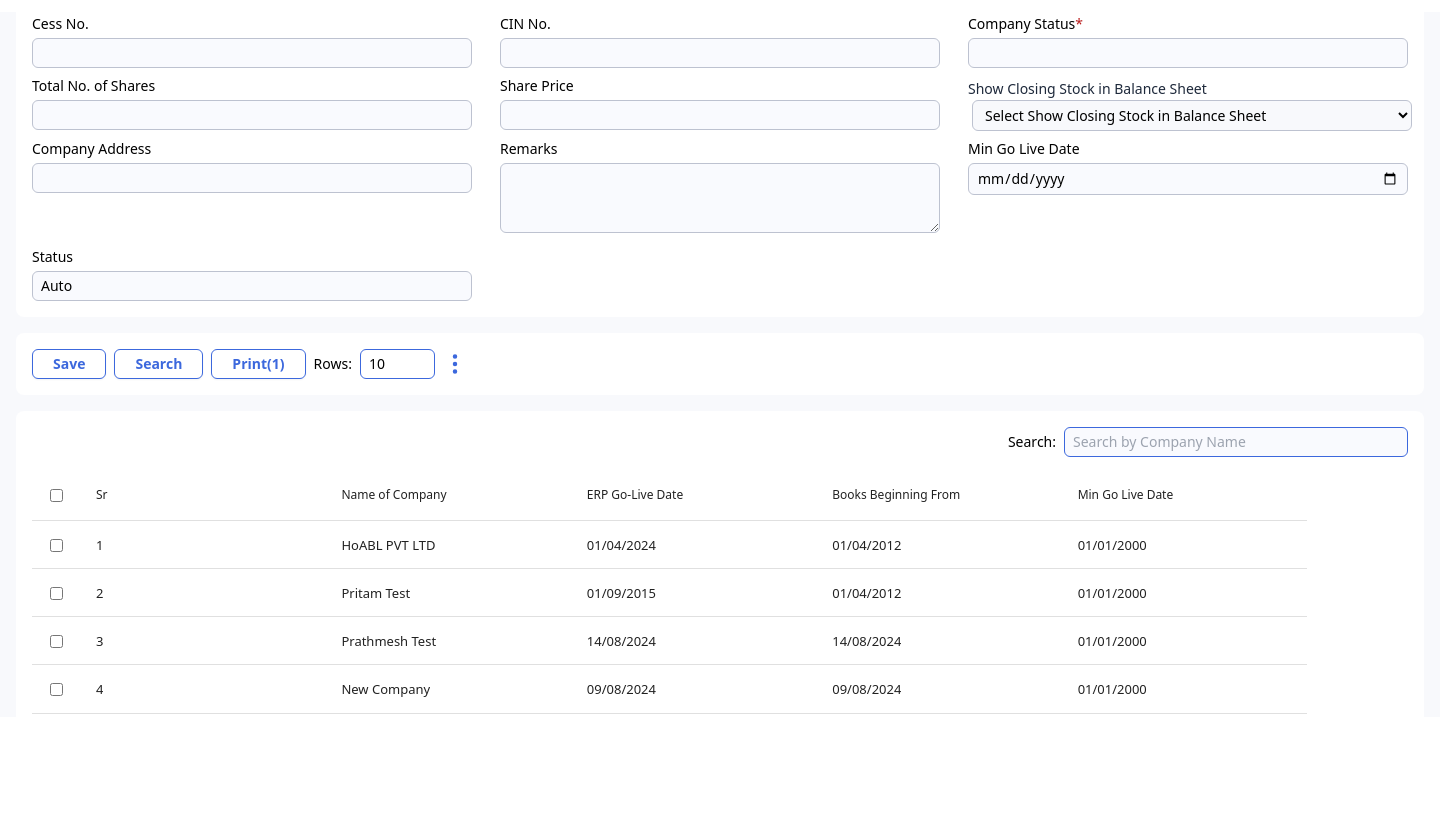
Test: DynamicForm Component › shows validation error message on form submission when required field is empty
The image size is (1440, 822).
(page scrolled)
Click the button "Save": (69, 364) [32, 349, 106, 379]
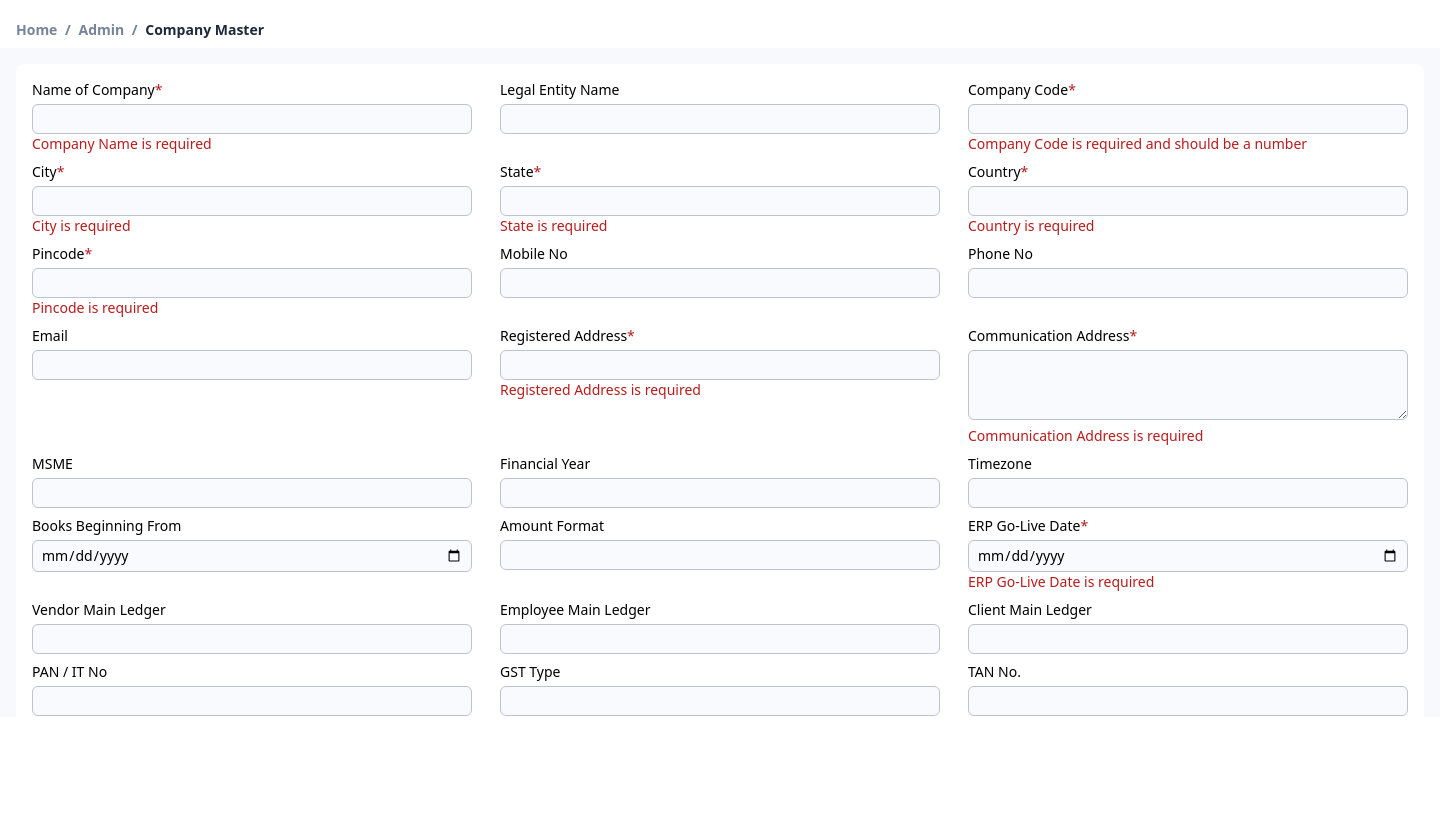
Expected: the text "Company Name is required" is shown, [32, 134, 212, 153]
